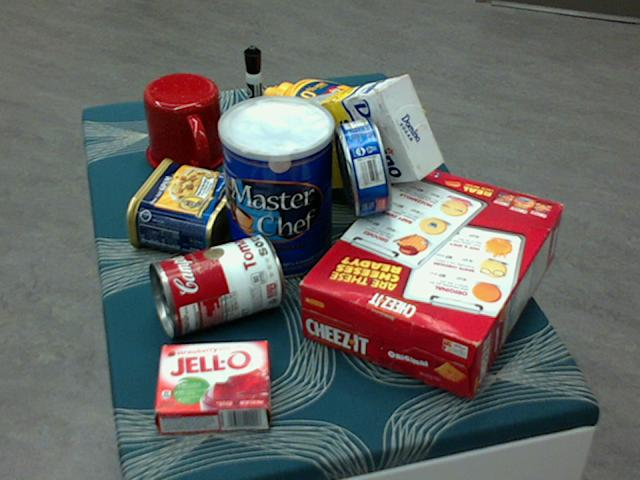cracker_box: (297, 163, 563, 397)
gelatin_box: (154, 340, 271, 431)
large_marker: (243, 45, 265, 148)
master_chef_can: (218, 96, 333, 281)
mug: (143, 73, 229, 176)
mustard_bottle: (263, 78, 425, 170)
potted_meat_can: (125, 158, 245, 256)
sugar_box: (272, 75, 443, 189)
tomato_soup_can: (148, 235, 282, 335)
tuna_fish_can: (335, 115, 392, 215)
